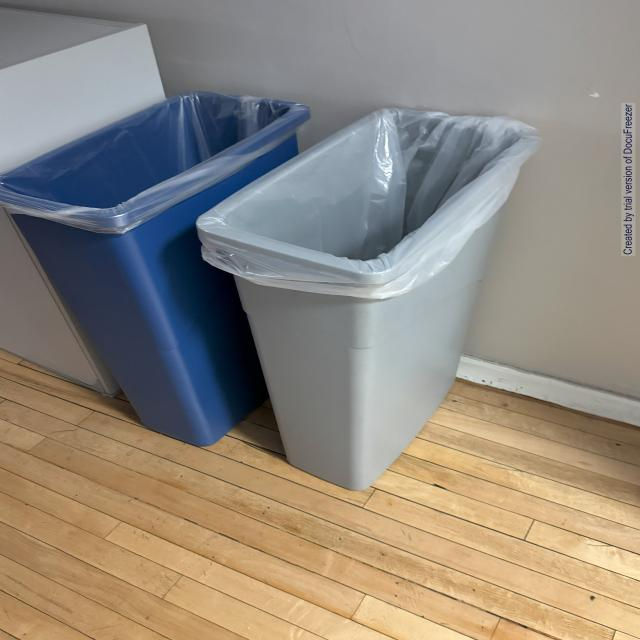Trash bin: (196, 107, 552, 525), (0, 84, 302, 492)
